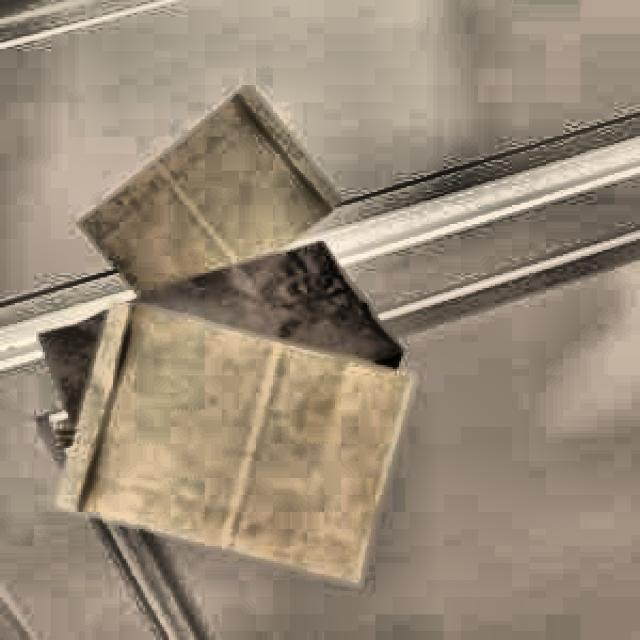Paper-bag: (52, 294, 426, 604), (29, 236, 419, 460), (66, 78, 340, 326)
